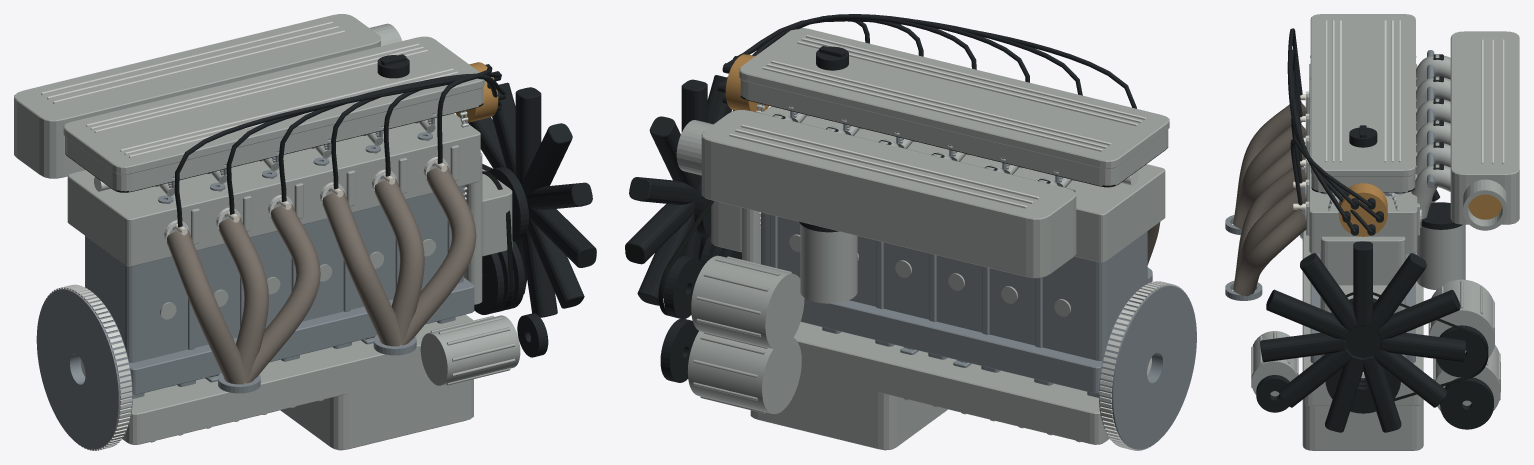
3 views of the same model, side by side, from view 1: azimuth 30°, elevation 25°; view 2: azimuth 150°, elevation 25°; view 3: azimuth 270°, elevation 25° (orthographic). The views are drawn at different scales.
Parts seen in each view (by area): view 1: m30b35_valve-cover_8379f15a, m30b35_block_d4d7c686, m30b35_cylinder-head_74d0a612, m30b35_oil-pan_19f74778, m30b35_intake-plenum_763195e9, m30b35_fan_244f09d1, m30b35_exhaust-manifold_0_aeb461f2, m30b35_exhaust-manifold_1_11404d4b, m30b35_flywheel_6dd20fd9, m30b35_power-steering-pump_c009462b, m30b35_water-pump_b64f3035, m30b35_crank-pulley_be7750bb (+10 smaller); view 2: m30b35_intake-plenum_763195e9, m30b35_valve-cover_8379f15a, m30b35_block_d4d7c686, m30b35_oil-pan_19f74778, m30b35_flywheel_6dd20fd9, m30b35_alternator_79c7a5a2, m30b35_fan_244f09d1, m30b35_ac-compressor_c37af2ec, m30b35_cylinder-head_74d0a612, m30b35_oil-filter_351b7d87, m30b35_water-pump_b64f3035, m30b35_ignition-lead_5_538dc8ac (+8 smaller); view 3: m30b35_fan_244f09d1, m30b35_valve-cover_8379f15a, m30b35_intake-plenum_763195e9, m30b35_oil-pan_19f74778, m30b35_exhaust-manifold_0_aeb461f2, m30b35_cylinder-head_74d0a612, m30b35_alternator_79c7a5a2, m30b35_exhaust-manifold_1_11404d4b, m30b35_oil-filter_351b7d87, m30b35_ac-compressor_c37af2ec, m30b35_timing-cover_b8c8cac8, m30b35_power-steering-pump_c009462b (+14 smaller).
Boxes of the visible parts, box(x1,y1,x2,y2) form: m30b35_valve-cover_8379f15a: box(63, 36, 484, 191); m30b35_block_d4d7c686: box(85, 185, 474, 394); m30b35_cylinder-head_74d0a612: box(67, 113, 480, 266); m30b35_oil-pan_19f74778: box(122, 314, 473, 450); m30b35_intake-plenum_763195e9: box(14, 14, 380, 178); m30b35_fan_244f09d1: box(468, 82, 596, 317); m30b35_exhaust-manifold_0_aeb461f2: box(322, 166, 476, 355); m30b35_exhaust-manifold_1_11404d4b: box(166, 204, 320, 393); m30b35_flywheel_6dd20fd9: box(36, 284, 132, 450); m30b35_power-steering-pump_c009462b: box(420, 313, 548, 385); m30b35_water-pump_b64f3035: box(482, 167, 528, 256); m30b35_crank-pulley_be7750bb: box(474, 240, 524, 314); m30b35_intake-plenum_763195e9: box(701, 110, 1076, 278); m30b35_valve-cover_8379f15a: box(739, 27, 1169, 186); m30b35_block_d4d7c686: box(761, 212, 1147, 393); m30b35_oil-pan_19f74778: box(750, 322, 1109, 450); m30b35_flywheel_6dd20fd9: box(1099, 281, 1196, 450); m30b35_alternator_79c7a5a2: box(663, 255, 804, 350); m30b35_fan_244f09d1: box(625, 75, 734, 308); m30b35_ac-compressor_c37af2ec: box(660, 319, 801, 414); m30b35_cylinder-head_74d0a612: box(764, 106, 1165, 262); m30b35_oil-filter_351b7d87: box(799, 221, 857, 303); m30b35_water-pump_b64f3035: box(694, 181, 741, 252); m30b35_ignition-lead_5_538dc8ac: box(723, 19, 1136, 108); m30b35_fan_244f09d1: box(1260, 241, 1465, 432); m30b35_valve-cover_8379f15a: box(1310, 14, 1415, 192); m30b35_intake-plenum_763195e9: box(1411, 31, 1519, 227); m30b35_oil-pan_19f74778: box(1302, 230, 1423, 450); m30b35_exhaust-manifold_0_aeb461f2: box(1225, 167, 1306, 300); m30b35_cylinder-head_74d0a612: box(1305, 63, 1419, 253); m30b35_alternator_79c7a5a2: box(1428, 279, 1494, 377); m30b35_exhaust-manifold_1_11404d4b: box(1225, 101, 1306, 234); m30b35_oil-filter_351b7d87: box(1416, 202, 1465, 290); m30b35_ac-compressor_c37af2ec: box(1433, 345, 1500, 429); m30b35_timing-cover_b8c8cac8: box(1321, 236, 1405, 378); m30b35_power-steering-pump_c009462b: box(1251, 331, 1298, 412).
Size of the model in its own units: 0.8875 by 0.662 by 0.5673.
